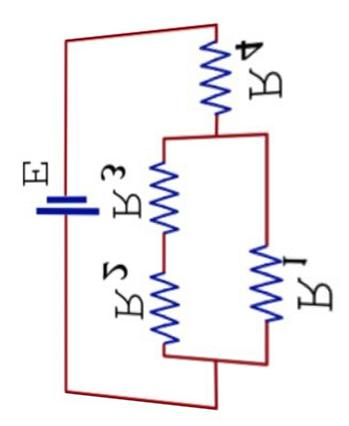resistor: (144, 153, 190, 242), (246, 236, 288, 331), (147, 269, 192, 343), (195, 29, 232, 115)
